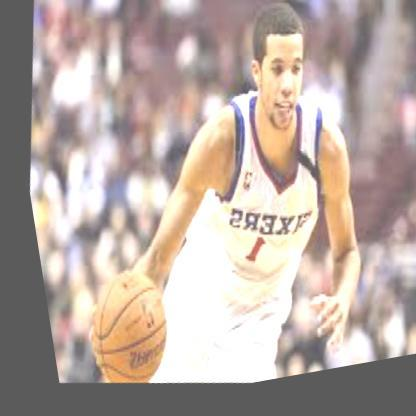basketball: (66, 262, 171, 396)
